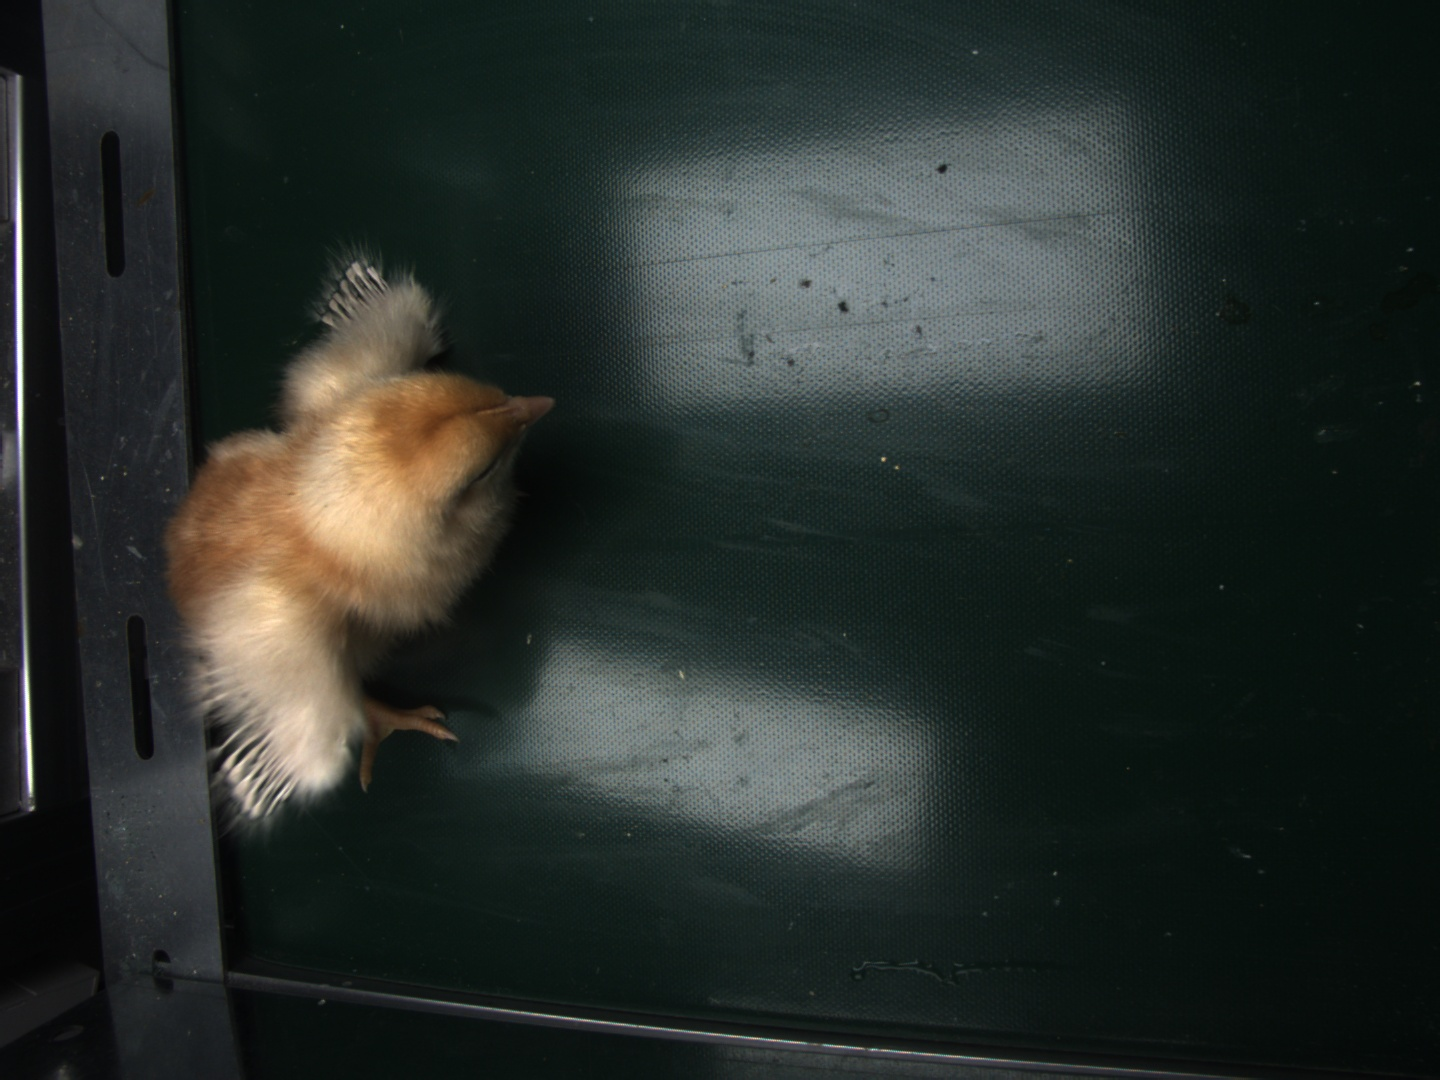female: (222, 717, 302, 815)
